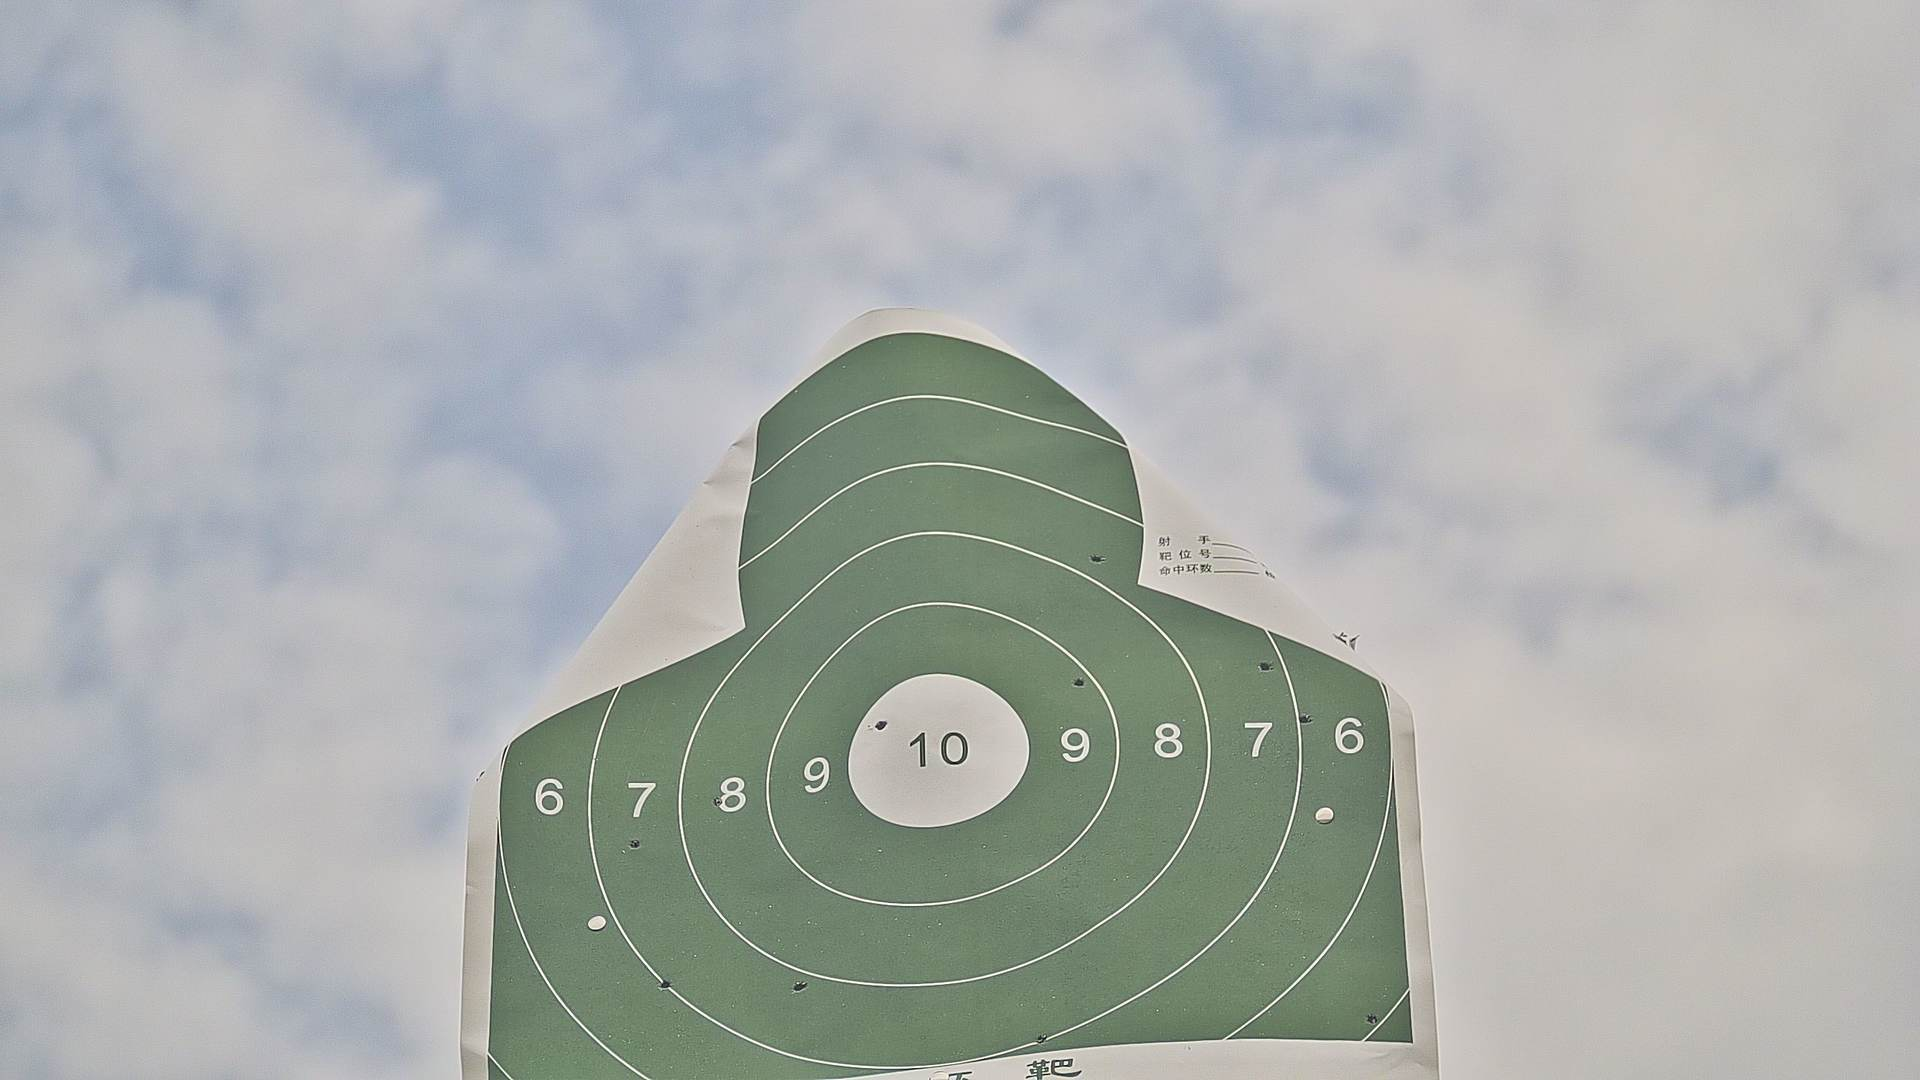hole: (626, 837, 644, 848), (876, 720, 889, 733), (793, 982, 808, 993), (1296, 713, 1309, 725), (1367, 1011, 1379, 1025), (1035, 1034, 1047, 1046), (1259, 661, 1270, 673), (659, 980, 670, 990), (1091, 555, 1102, 564), (1073, 678, 1085, 687), (713, 796, 723, 807)
kernel: (930, 748, 934, 752)
target: (483, 334, 1415, 1080)
ten: (848, 675, 1035, 833)
